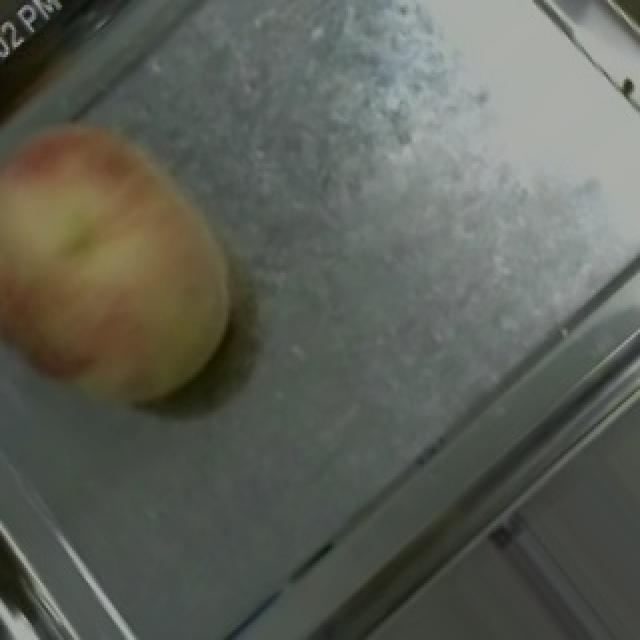Fruit: (0, 70, 286, 434)
